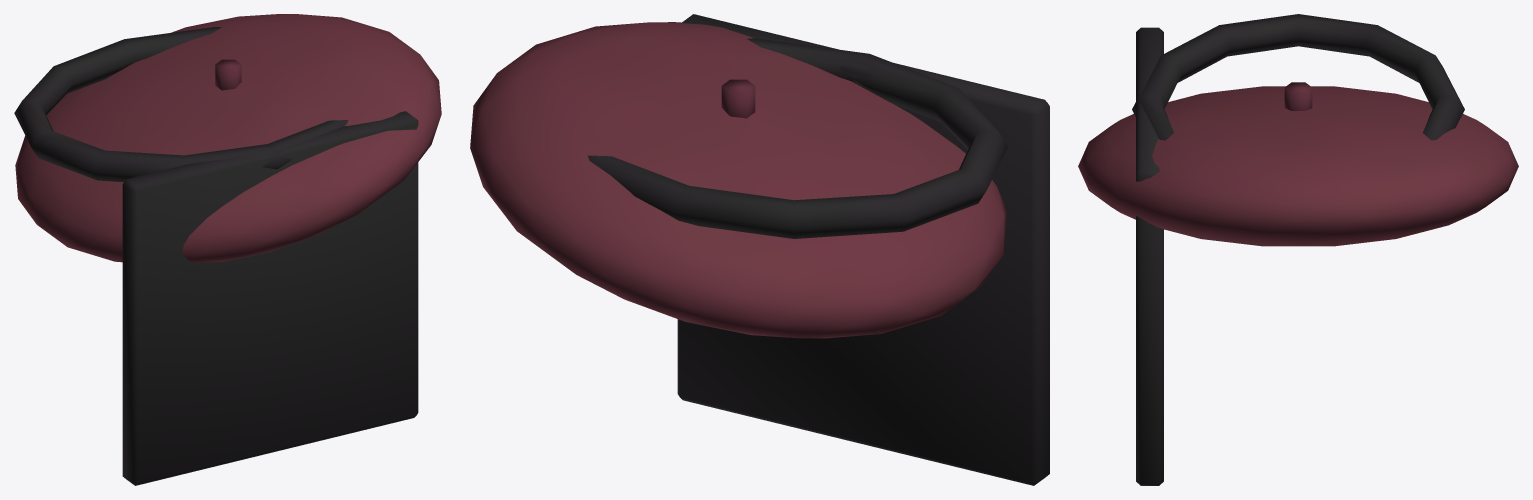
The model's file is outfit.barista.glb.
The picture shows the model from 3 angles, left to right: view 1: azimuth 30°, elevation 25°; view 2: azimuth 150°, elevation 25°; view 3: azimuth 270°, elevation 25°; orthographic projection. The views are drawn at different scales.
Visible parts, largest first — view 1: apron, beret; view 2: beret, apron; view 3: beret, apron.
Boxes of the visible parts, x1,y1,x2,y2 form: apron: [14, 27, 418, 485]; beret: [15, 14, 441, 262]; beret: [470, 22, 1006, 338]; apron: [587, 14, 1049, 485]; beret: [1078, 82, 1518, 246]; apron: [1132, 14, 1464, 485].
Size of the model in its own units: 0.4016 by 0.325 by 0.38.
